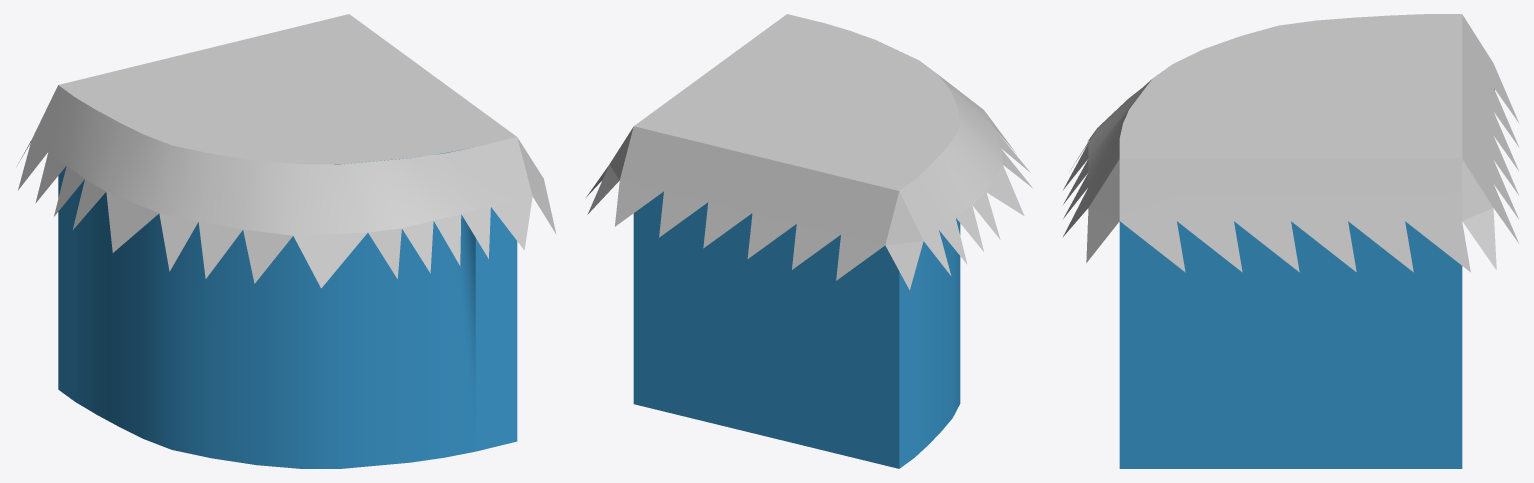
File: Tile_Corner_Ice.fbx
3 renders of one model, left to right at view 1: azimuth 30°, elevation 25°; view 2: azimuth 150°, elevation 25°; view 3: azimuth 270°, elevation 25°, orthographic. The views are drawn at different scales.
Visible parts, largest first — view 1: blockCornerSmall; view 2: blockCornerSmall; view 3: blockCornerSmall.
Part boxes in pixels (x1,y1,x2,y2): blockCornerSmall: (17, 14, 556, 468); blockCornerSmall: (586, 14, 1032, 468); blockCornerSmall: (1062, 14, 1519, 468).
Size of the model in its own units: 52.58 by 52.58 by 39.37.
